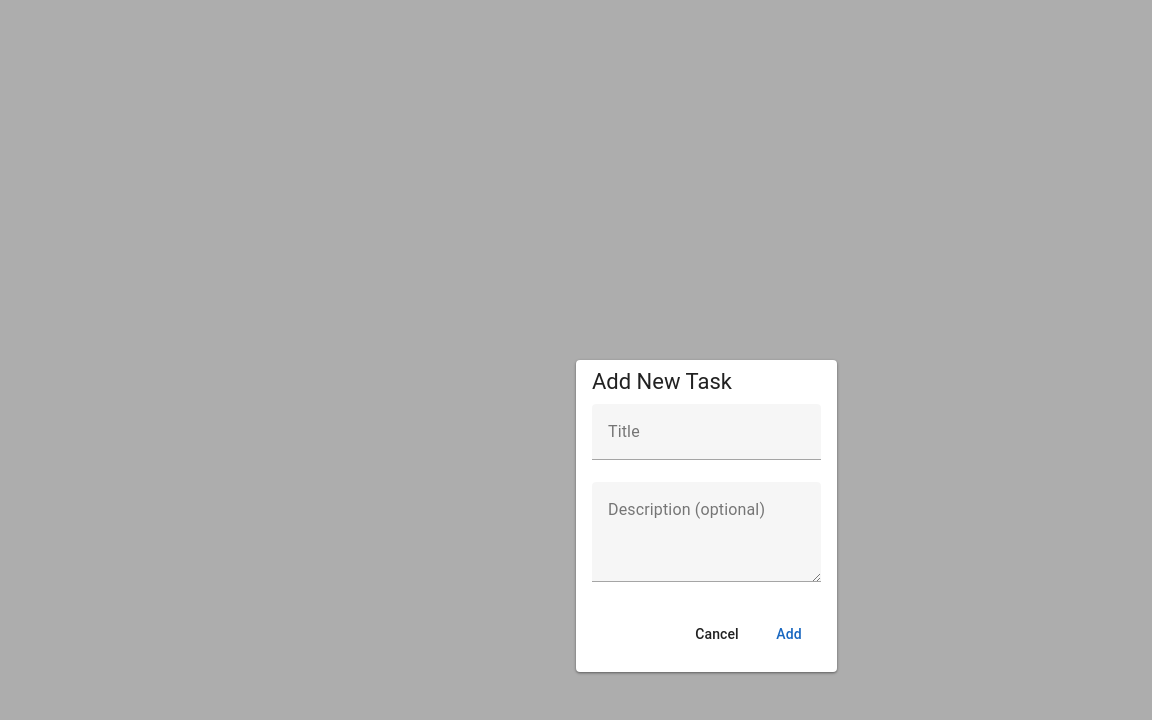
Test: CreateTaskDialog › shows validation error for empty title
Click the submit button at (789, 634), box [757,616,821,652]
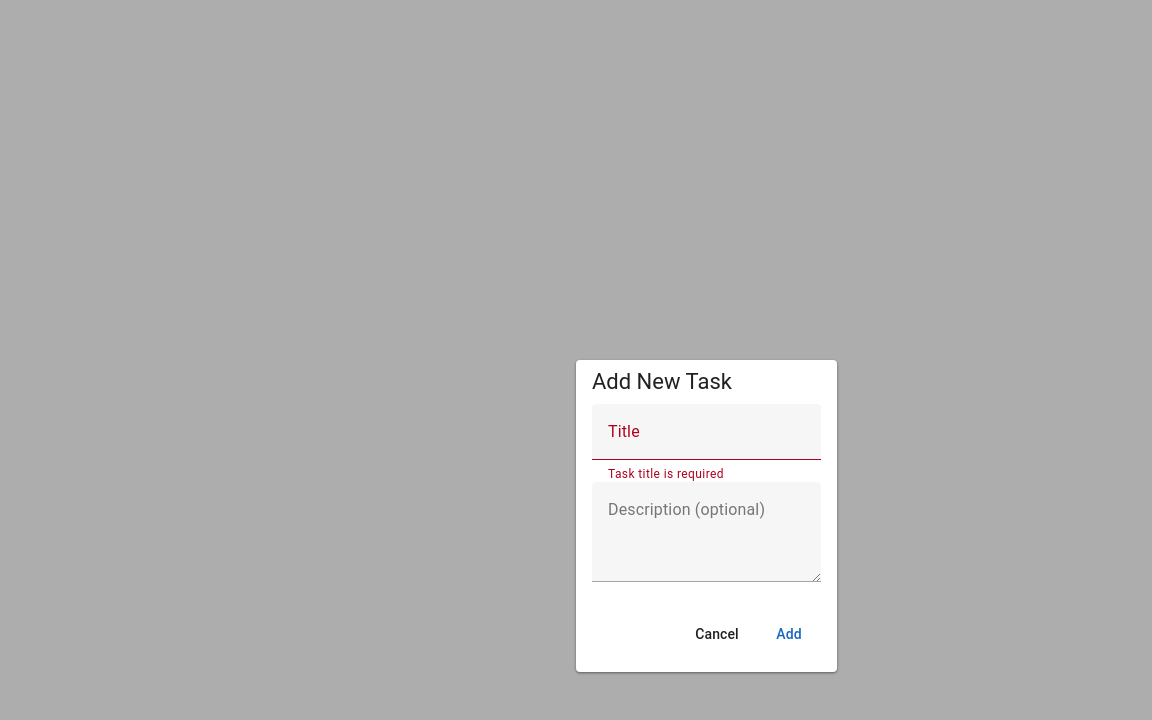
expect the text "Task title is required" is shown: met, box [608,467,724,481]
